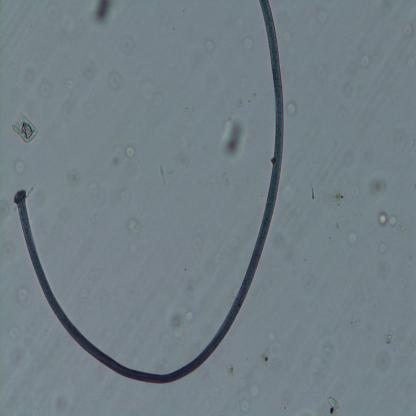Background material: (219, 115, 249, 164), (234, 374, 266, 410), (262, 320, 284, 371), (374, 326, 396, 370), (138, 72, 162, 110), (12, 113, 39, 144), (390, 206, 410, 242), (92, 0, 117, 28), (114, 30, 139, 54), (102, 69, 126, 92), (27, 74, 52, 96), (63, 164, 84, 190), (328, 186, 348, 209), (320, 341, 337, 364), (311, 4, 329, 25), (370, 176, 387, 198), (168, 310, 186, 330), (397, 22, 416, 40), (124, 216, 142, 235), (12, 155, 29, 175), (16, 283, 30, 306), (312, 61, 328, 80), (376, 238, 389, 257), (326, 394, 338, 414), (238, 37, 256, 50), (285, 100, 297, 118), (189, 238, 204, 252), (362, 53, 372, 72), (123, 144, 136, 158), (377, 212, 389, 227), (204, 41, 215, 57), (347, 230, 358, 244)
Microfibre: (12, 0, 283, 386)
